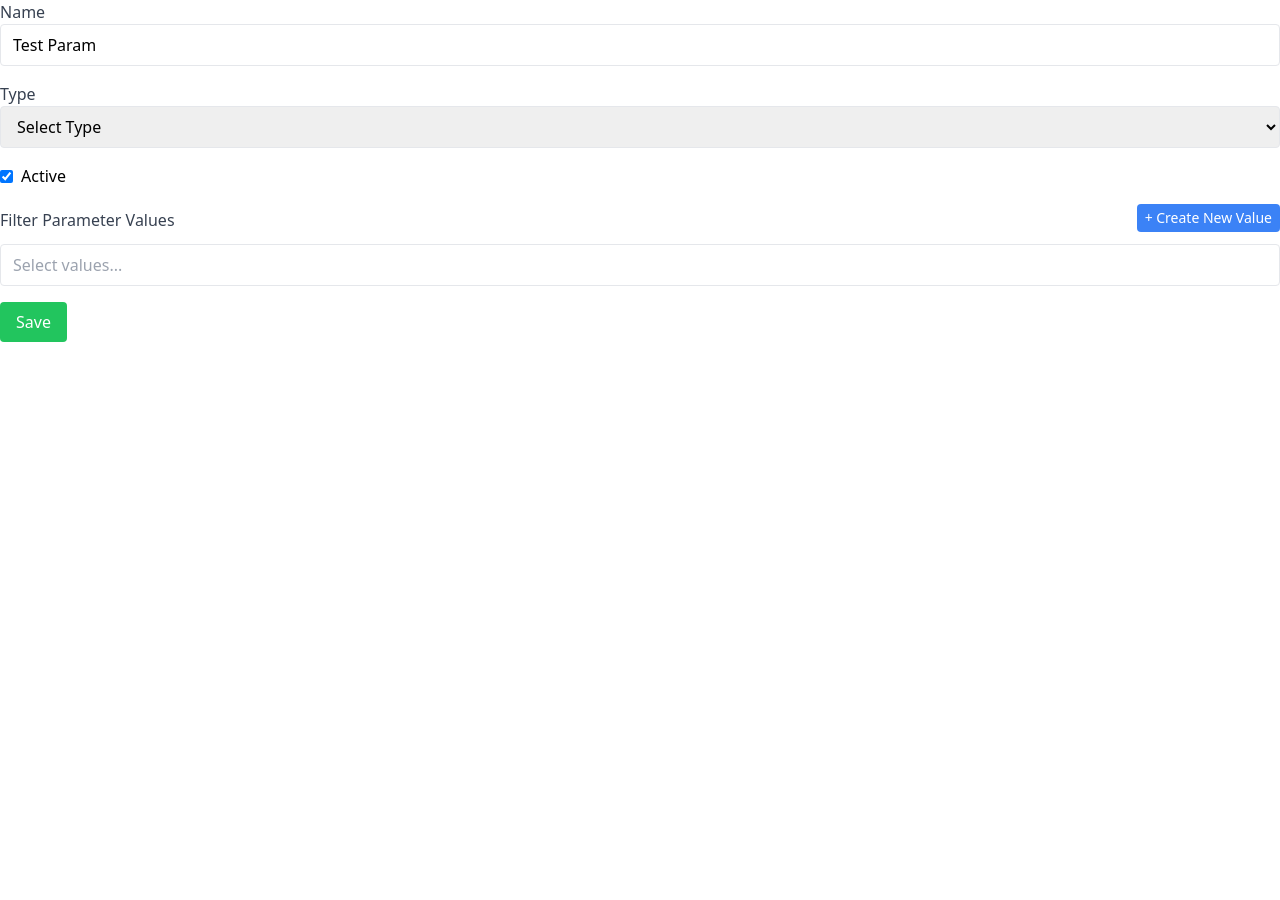
Test: FilterParameterForm › opens modal when create new value button is clicked
Click the button "+ Create New Value" at (1208, 218), box x1=1137 y1=204 x2=1279 y2=232
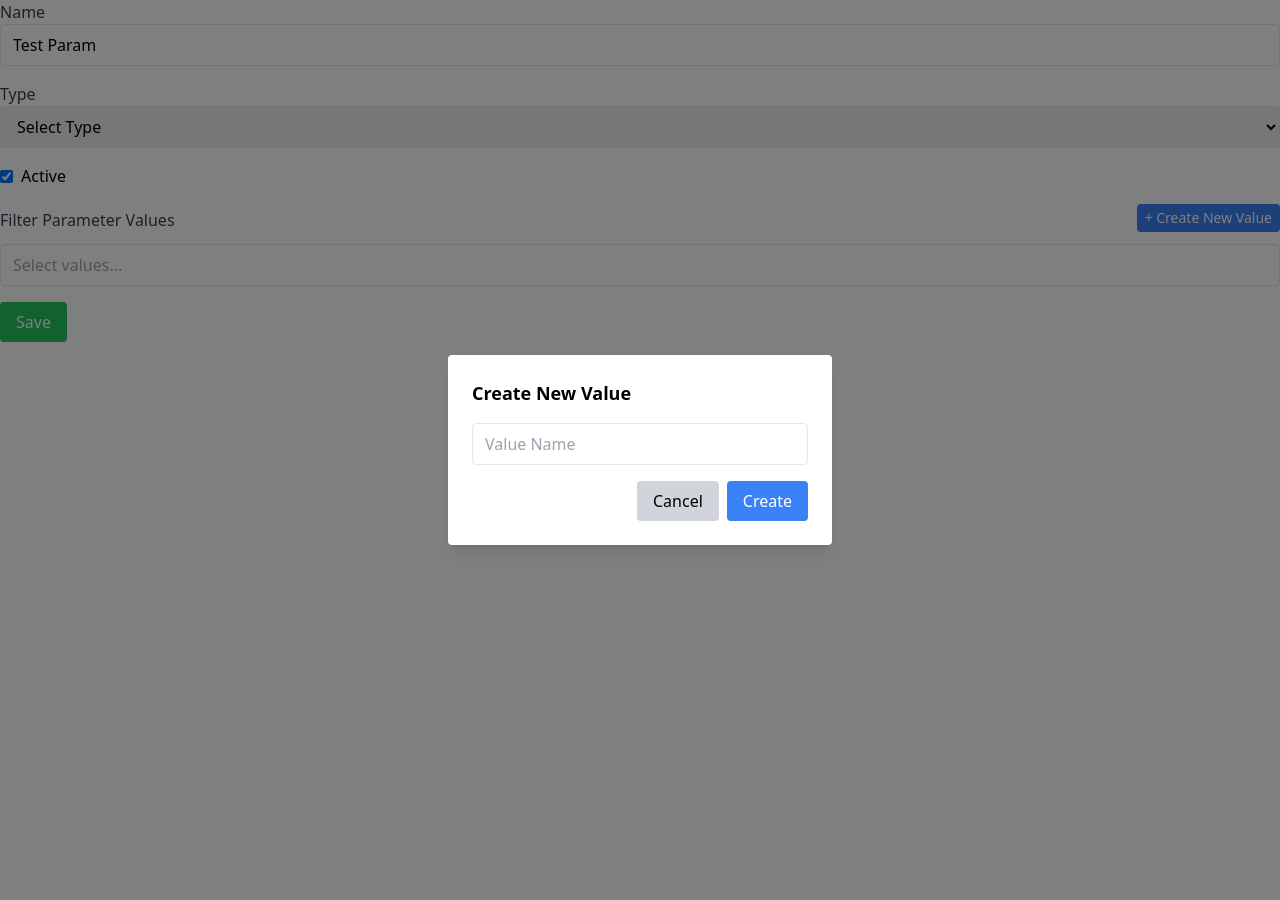
Expected: the heading "Create New Value" is shown, x1=472 y1=381 x2=631 y2=405
Expected: the field with placeholder "Value Name" is shown, x1=472 y1=423 x2=808 y2=465
